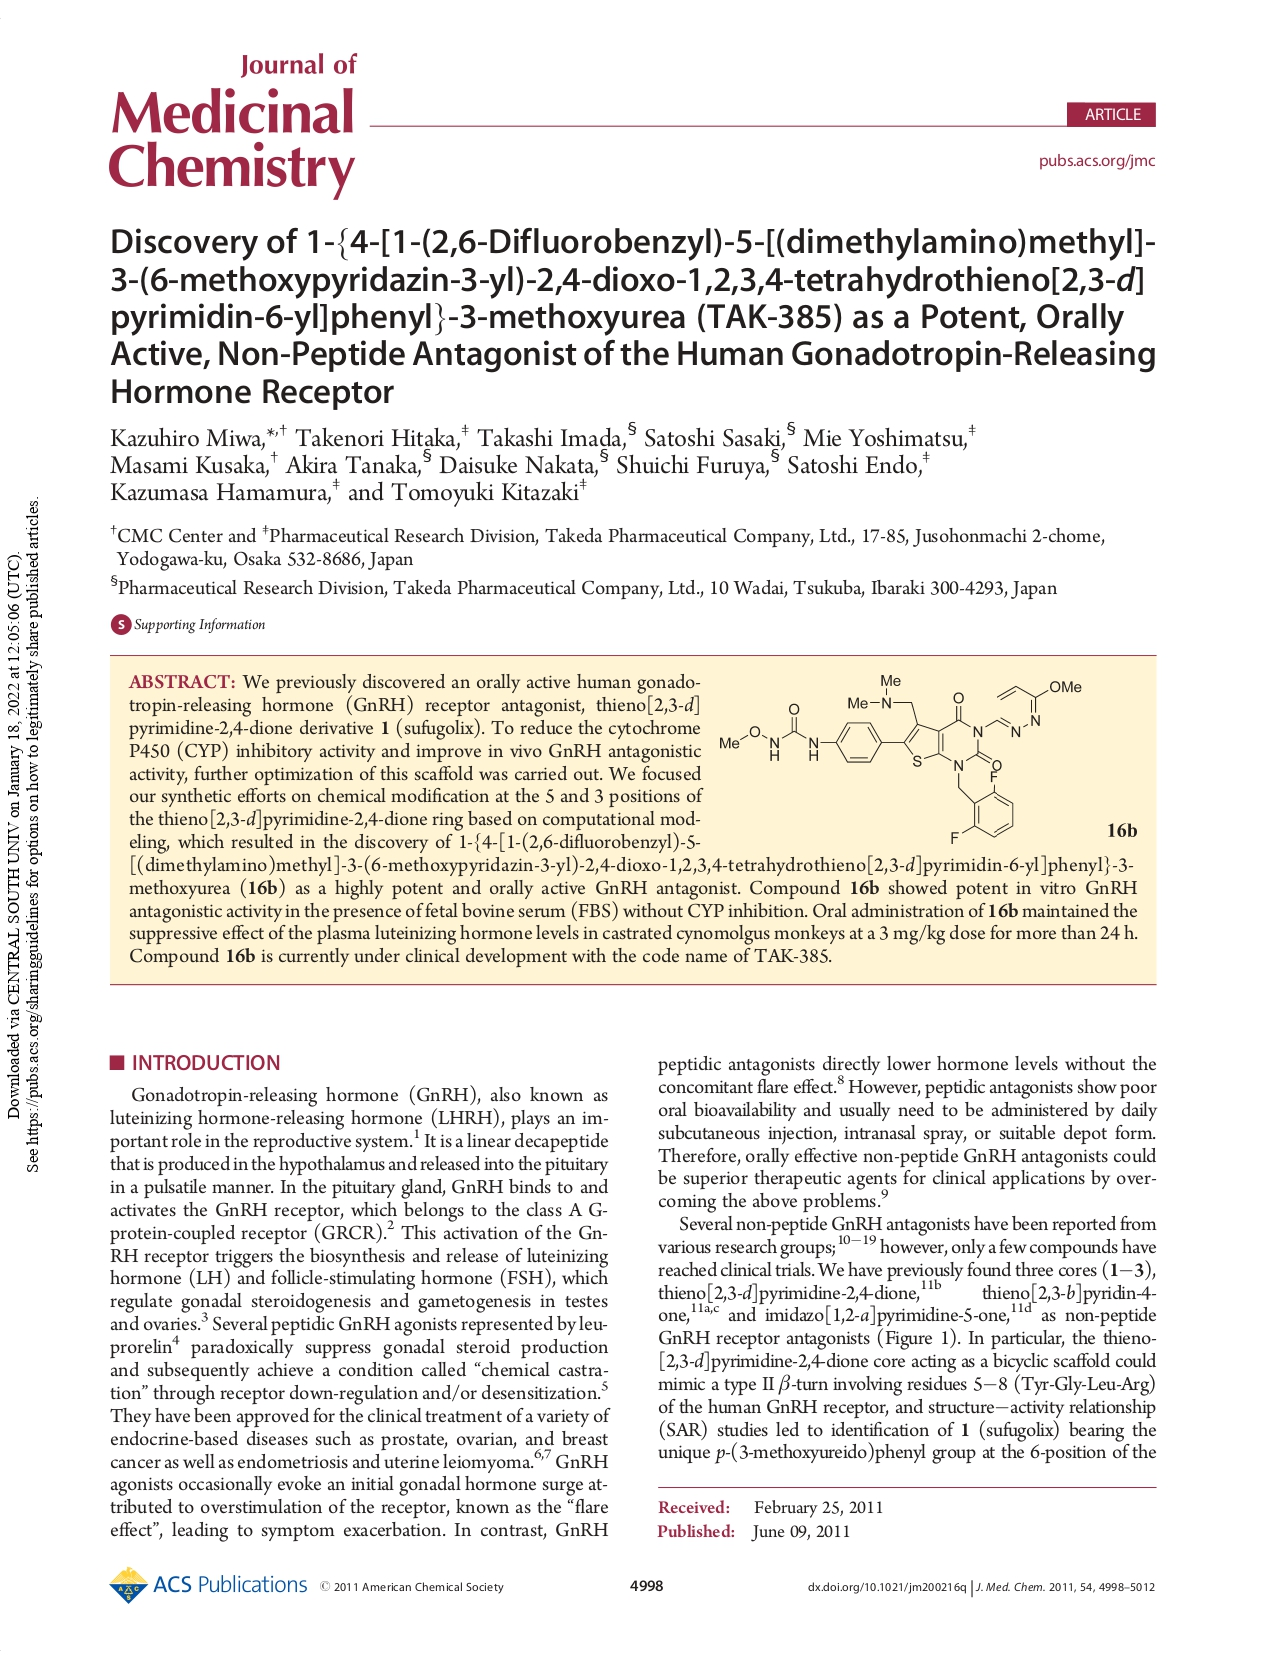exist_molecular: (715, 672, 1085, 847)
